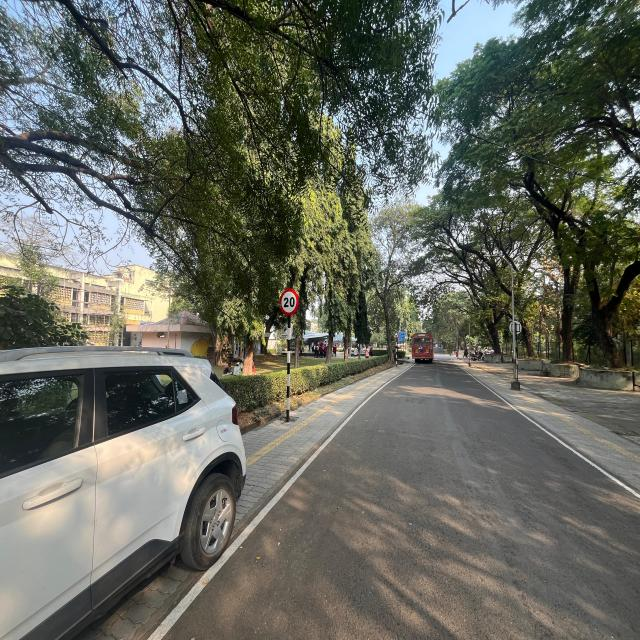forb_speed_over_20: (278, 287, 299, 317)
